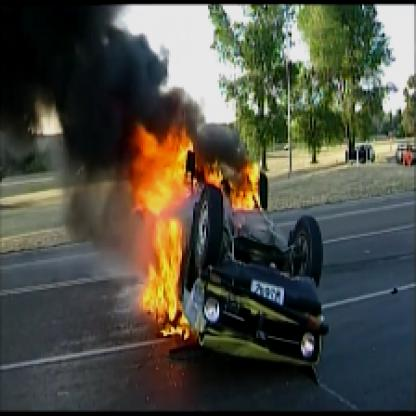Fire: (80, 85, 275, 342)
